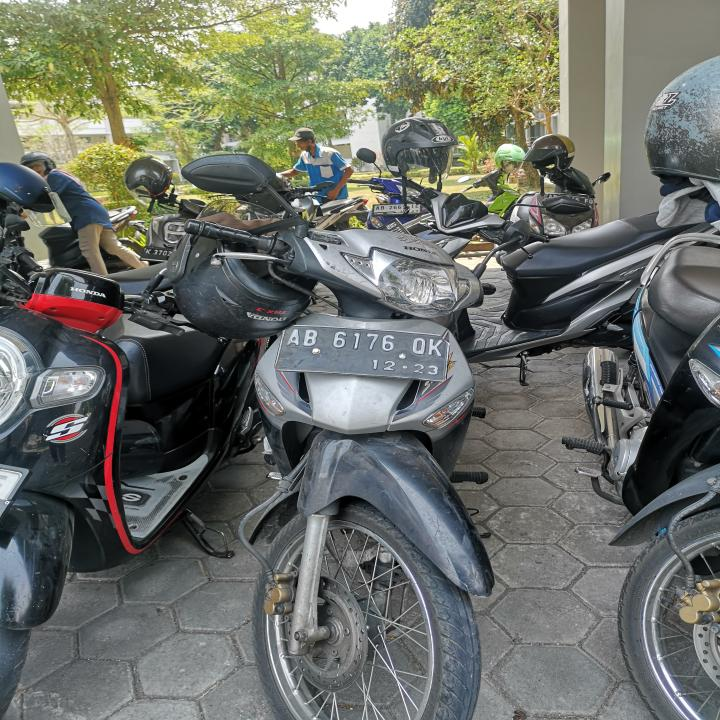plate: (272, 317, 450, 386)
